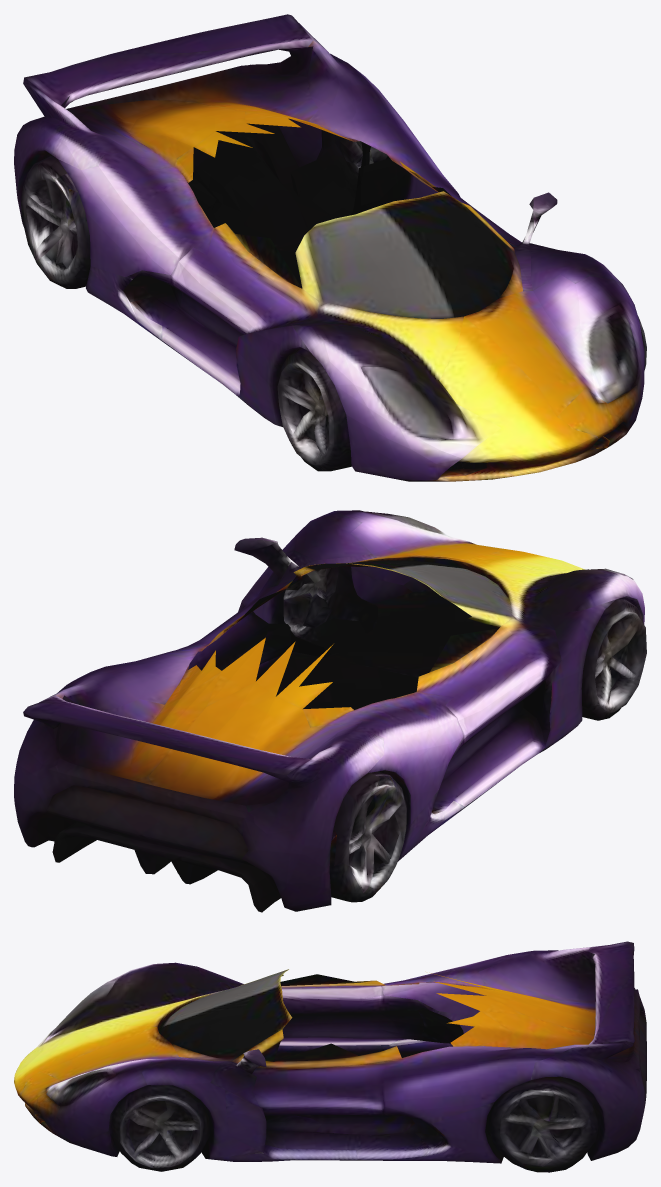
The model's file is supercar.glb.
3 views of the same model, one above another, from view 1: azimuth 30°, elevation 25°; view 2: azimuth 150°, elevation 25°; view 3: azimuth 270°, elevation 25° (orthographic). The views are drawn at different scales.
Visible parts, largest first — view 1: model; view 2: model; view 3: model.
Part boxes in pixels (bbox=[...]): model: bbox=[14, 14, 646, 481]; model: bbox=[14, 510, 646, 912]; model: bbox=[14, 941, 646, 1172].
Size of the model in its own units: 1.36 by 0.6639 by 2.9.
1 material, 1 textured.
